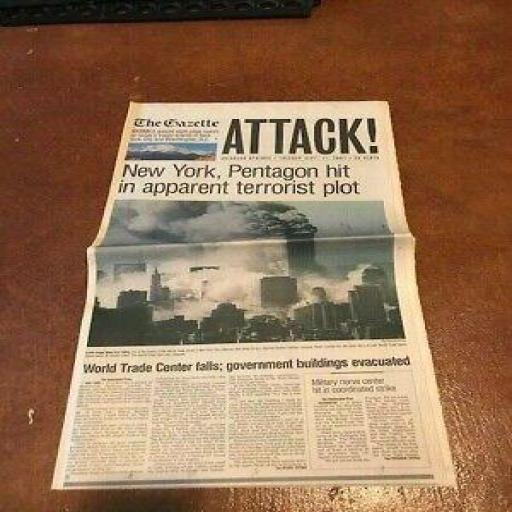paper: (49, 101, 460, 491)
